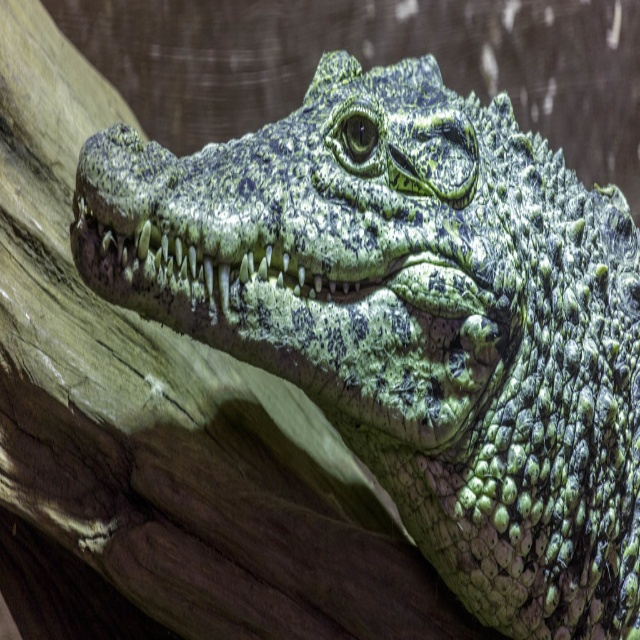Crocodile: (69, 47, 640, 640)
